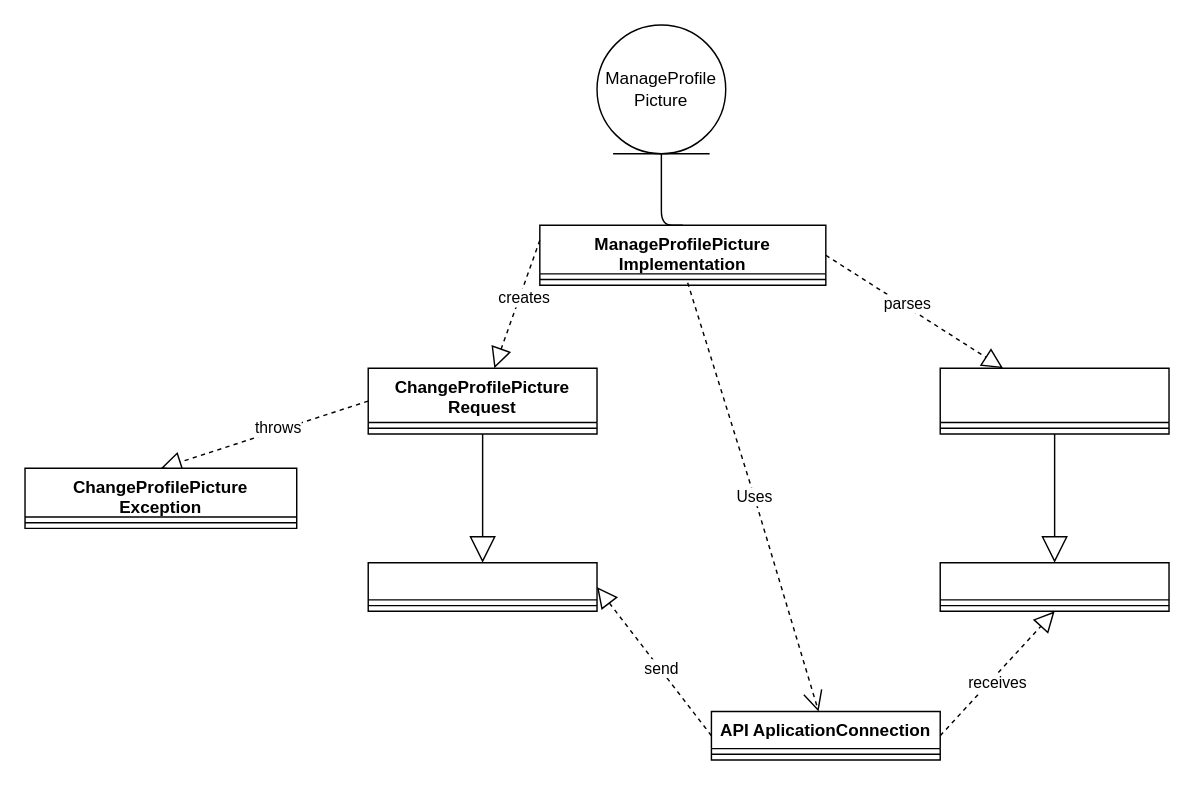
Image size: 1194x785. Some labels were removed from this diagram. Each missing label, with the centre of its shape:
"AbstractRequest" goes at (482,586).
"AbstractResponse" goes at (1054,586).
"ChangeProfilePicture Respone" goes at (1054,400).
